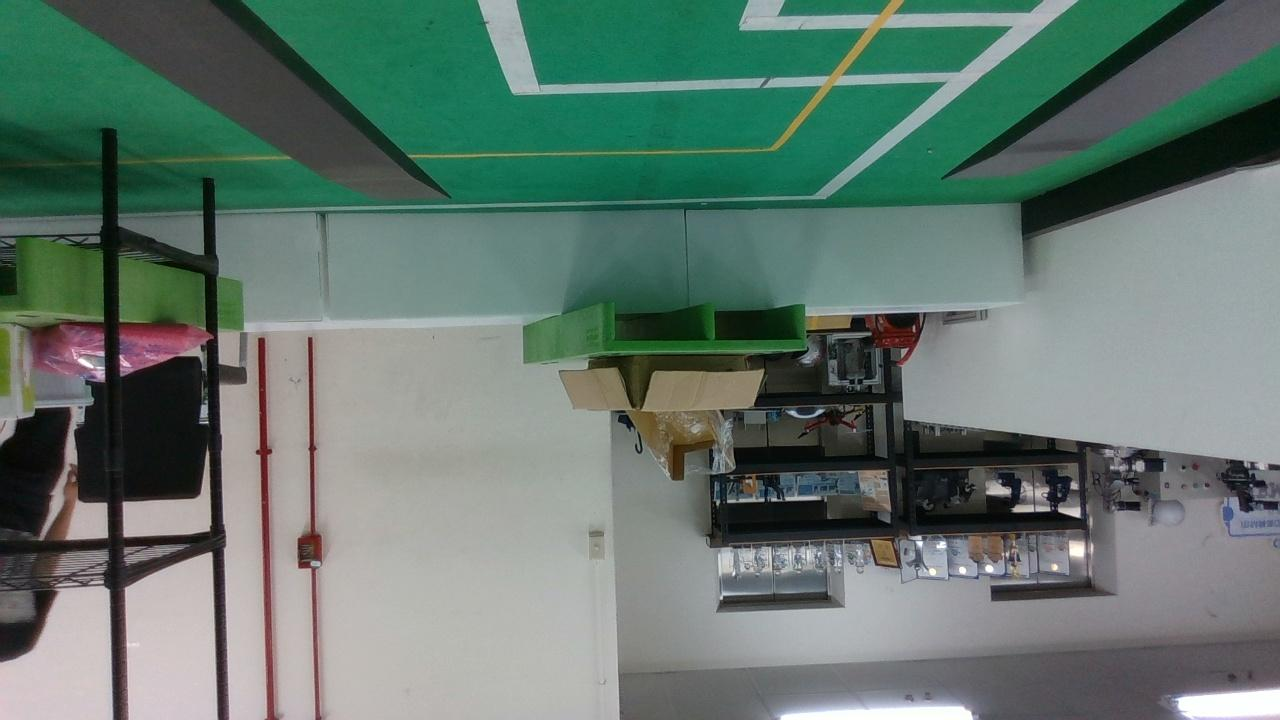Pallet: (603, 301, 808, 352)
